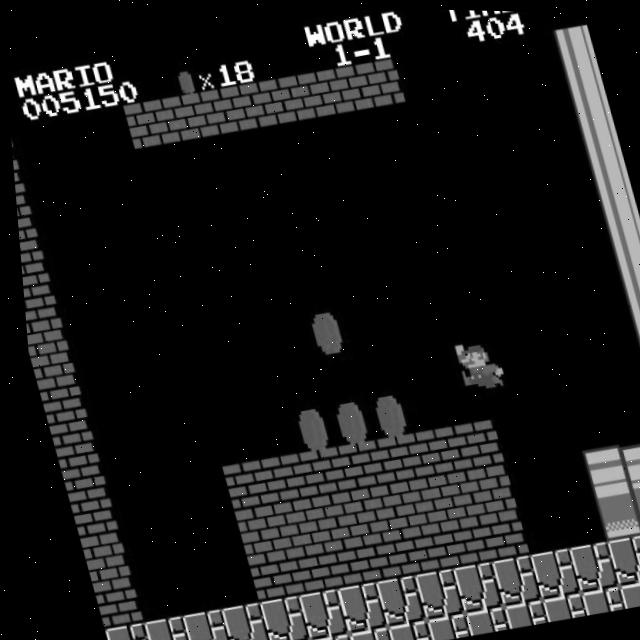1- brick_block: (236, 548, 289, 602), (159, 91, 212, 145), (275, 541, 328, 595), (198, 84, 251, 138), (237, 77, 290, 131), (391, 520, 444, 574), (430, 513, 483, 567), (353, 56, 406, 110), (469, 506, 522, 560), (252, 451, 305, 504), (446, 417, 499, 470), (35, 395, 87, 449), (47, 440, 99, 494), (121, 98, 173, 152), (225, 503, 277, 557), (264, 496, 316, 550), (303, 489, 355, 543), (314, 534, 366, 588), (342, 482, 394, 536), (353, 527, 405, 581), (276, 70, 328, 124), (315, 63, 367, 117), (419, 468, 471, 522), (458, 461, 510, 515), (70, 531, 122, 584), (213, 458, 265, 511), (330, 438, 382, 491), (369, 430, 421, 483), (380, 476, 432, 529), (407, 424, 460, 476), (82, 575, 133, 629), (291, 445, 343, 497), (24, 351, 75, 404), (59, 485, 110, 538), (20, 305, 63, 359), (17, 260, 52, 314), (14, 216, 40, 268), (11, 171, 28, 223)
11- little_mario: (446, 334, 500, 390)
14- pipe: (581, 156, 634, 210), (547, 21, 599, 75), (558, 66, 610, 119), (570, 112, 622, 165), (593, 201, 640, 255), (605, 247, 640, 300), (613, 434, 640, 488), (616, 290, 640, 344), (624, 478, 640, 532), (628, 336, 640, 389), (639, 382, 640, 434)
15- pipe_head: (574, 441, 627, 494), (586, 486, 638, 540)
17- undestructible_block: (364, 573, 417, 627), (403, 565, 456, 619), (558, 538, 611, 592), (442, 559, 495, 612), (287, 586, 339, 640), (481, 552, 533, 606), (520, 544, 572, 598), (326, 580, 378, 633), (248, 593, 300, 640), (597, 531, 640, 585), (209, 600, 261, 640), (171, 607, 222, 640), (454, 604, 501, 635), (492, 597, 539, 628), (570, 583, 617, 614), (531, 590, 578, 620), (415, 611, 462, 640), (131, 614, 182, 640), (375, 617, 422, 640), (94, 620, 143, 640), (609, 576, 640, 607), (337, 624, 383, 640), (298, 632, 344, 640), (636, 524, 640, 577), (260, 638, 305, 640)
2- coin: (279, 399, 332, 453), (318, 392, 371, 446), (295, 302, 347, 356), (357, 385, 409, 439)
